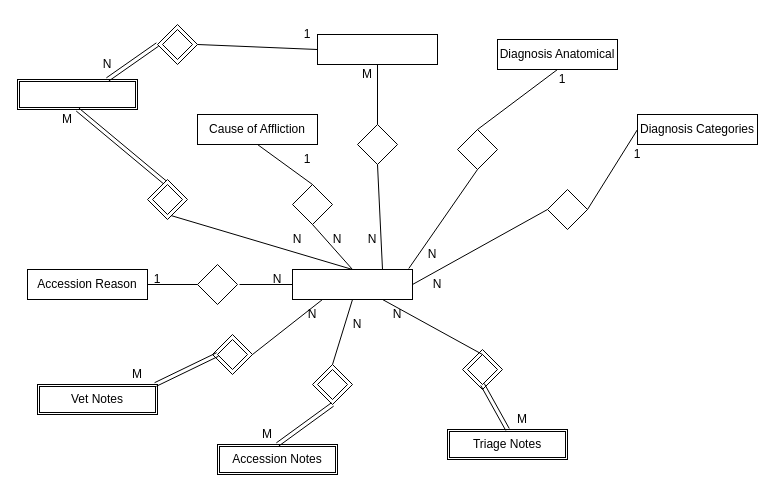
The diagram is 775 pixels wide and 492 high, and some of its shapes have lost their labels. The centre of each missing label's shape, as x and y in pixels:
Accessions: the point at 352,284
Aetiological Notes: the point at 77,94
Diagnosis Aetiology: the point at 377,49
